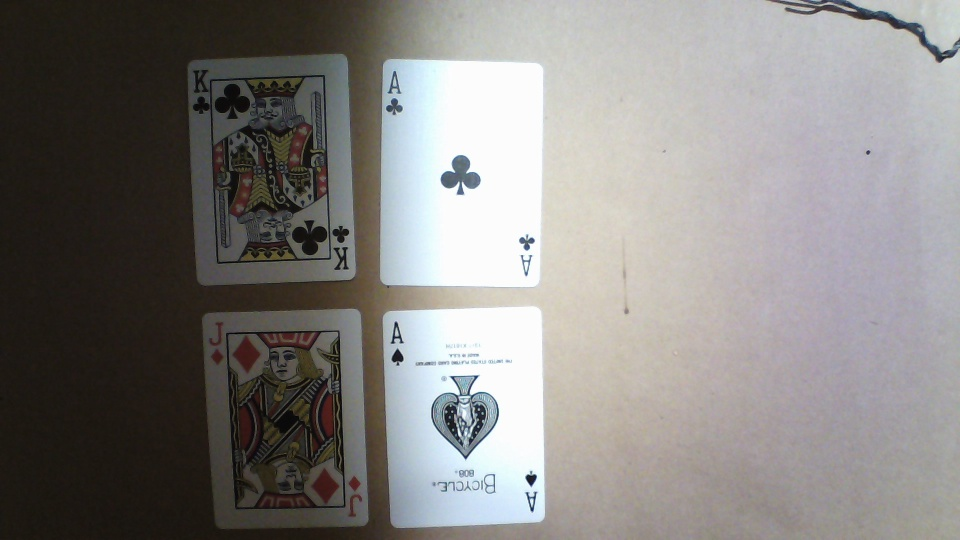ace: (378, 57, 542, 288), (381, 305, 547, 528)
jack: (197, 307, 372, 529)
king: (186, 53, 359, 287)
